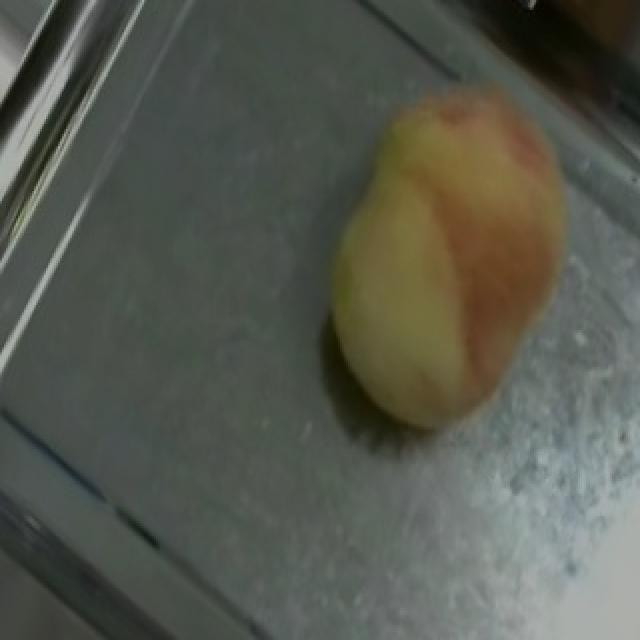Fruit: (290, 35, 608, 439)
